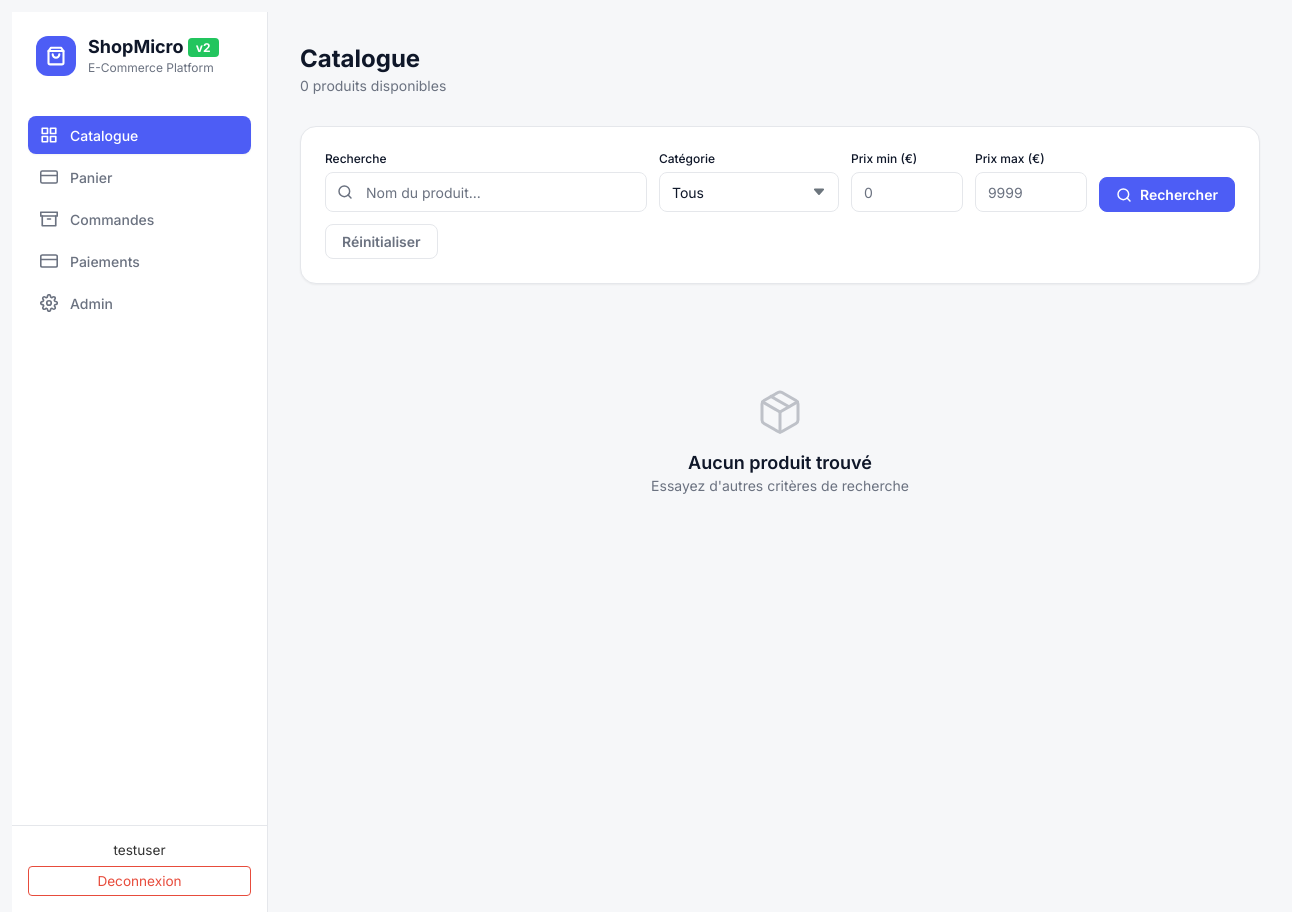
Test case: App › navigates to OrdersPage when Commandes is clicked
What coordinates should you click on to do the following:
click the button "Commandes"
I would click on:
 (140, 219)
Its box is [28, 200, 251, 238].
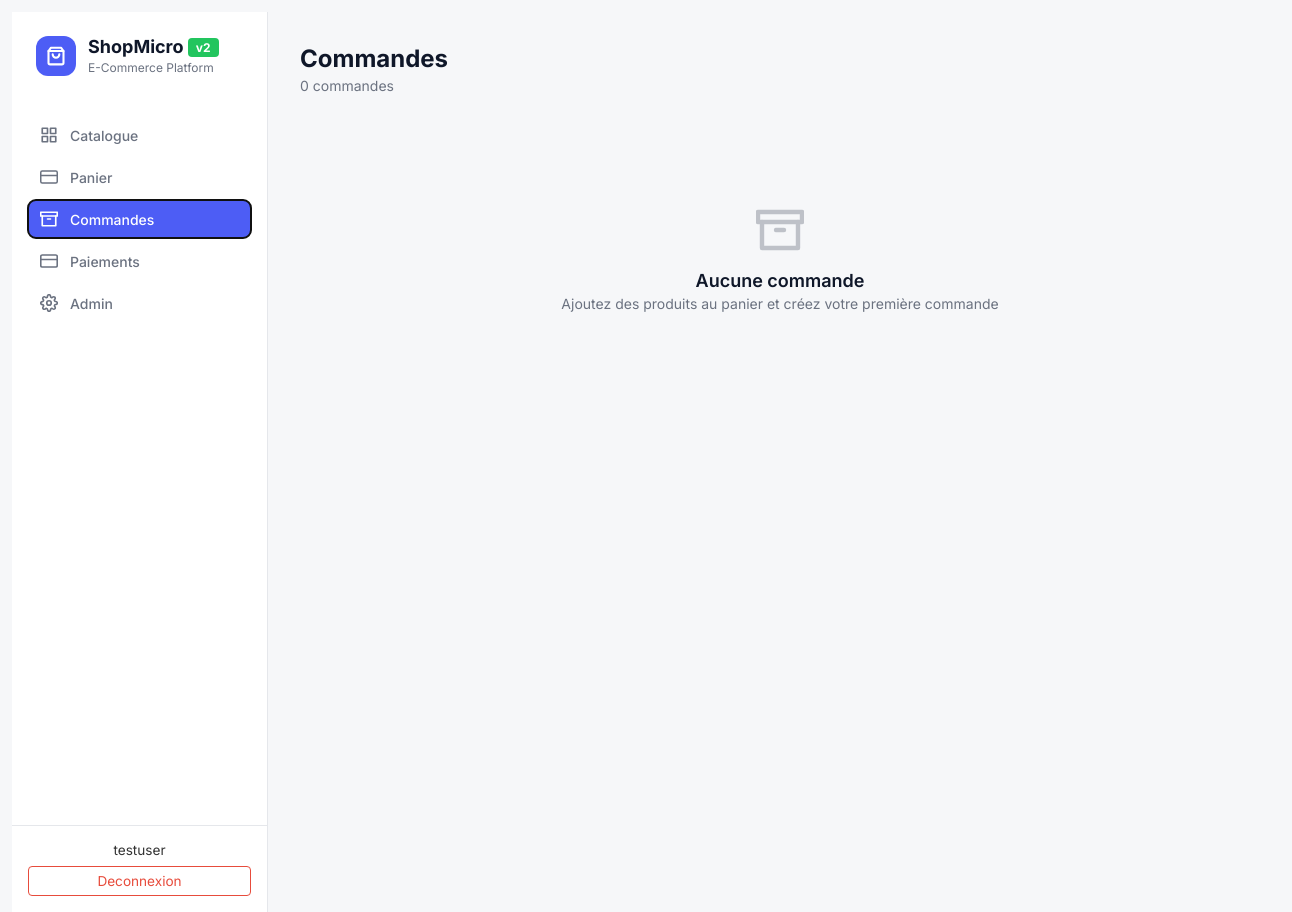
Now the heading "Commandes" is shown, box [300, 44, 448, 73]
